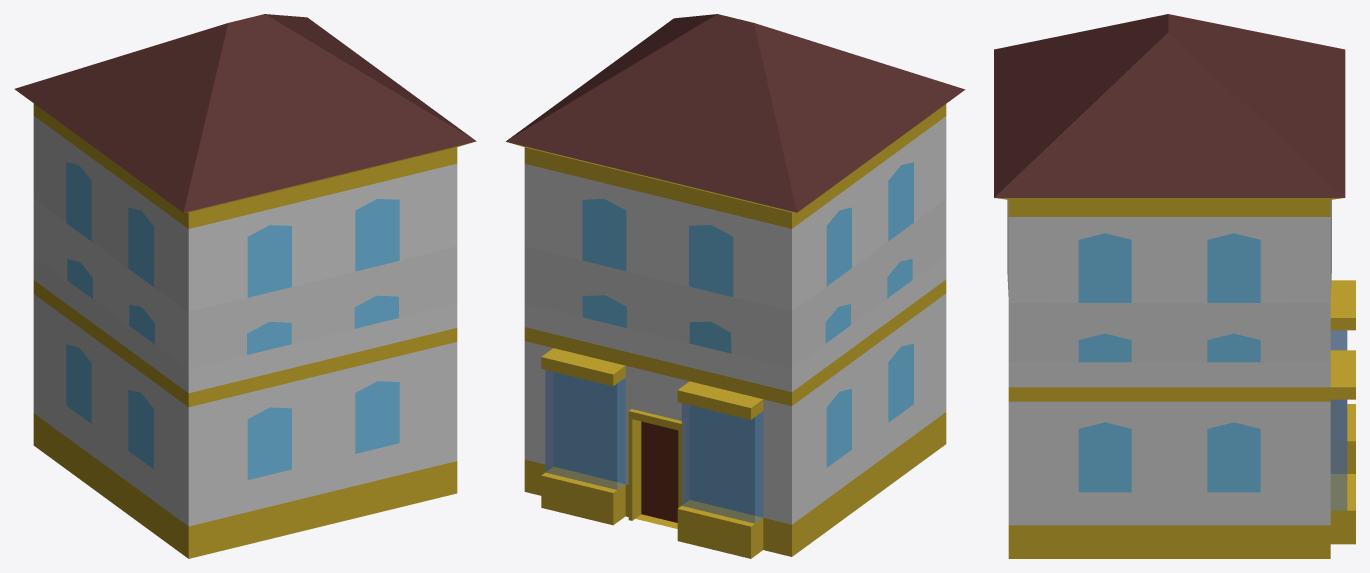
The model's file is HOUSE_STORE_3_REDUCED.fbx.
The picture shows the model from 3 angles, left to right: view 1: azimuth 30°, elevation 25°; view 2: azimuth 150°, elevation 25°; view 3: azimuth 270°, elevation 25°; orthographic projection. The views are drawn at different scales.
Parts seen in each view (by area): view 1: House 3; view 2: House 3; view 3: House 3.
Part boxes in pixels (x1,y1,x2,y2): House 3: (14,14,476,558); House 3: (506,14,965,558); House 3: (994,14,1355,558).
Size of the model in its own units: 1132 by 1664 by 1166.
